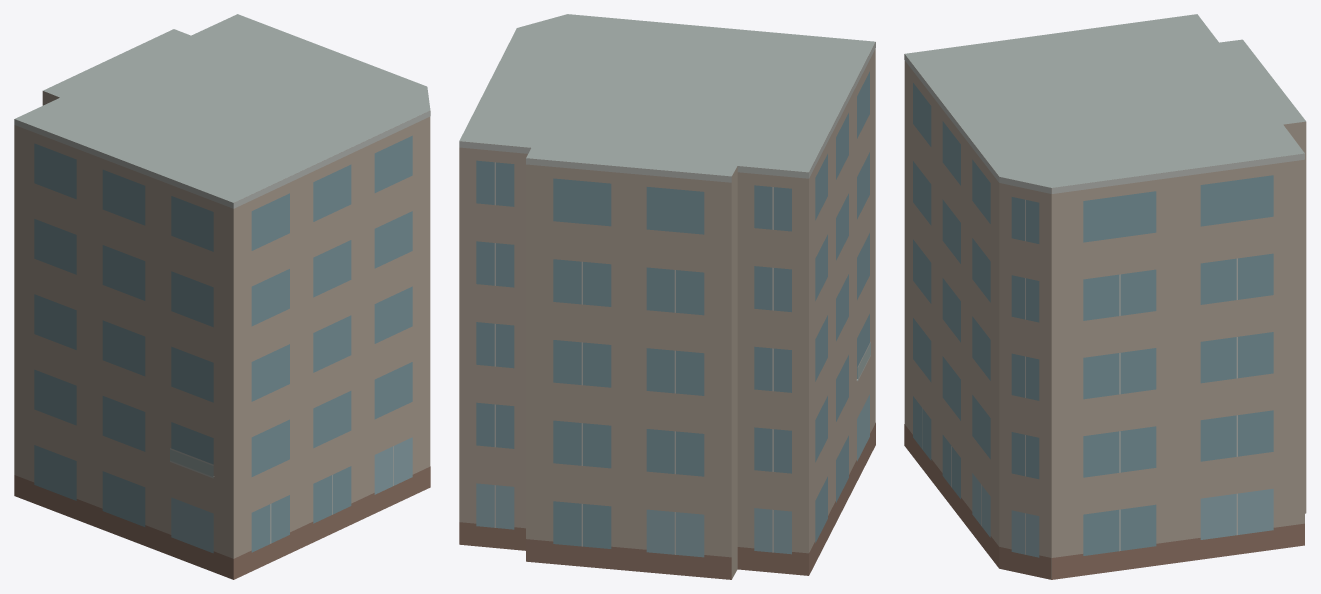
Rendered from survey-upis-32955146.glb.
The picture shows the model from 3 angles, left to right: view 1: azimuth 30°, elevation 25°; view 2: azimuth 150°, elevation 25°; view 3: azimuth 270°, elevation 25°; orthographic projection. The views are drawn at different scales.
Parts seen in each view (by area): view 1: survey-upis-32955146.tmp; view 2: survey-upis-32955146.tmp; view 3: survey-upis-32955146.tmp.
Boxes of the visible parts, bbox=[...] form: survey-upis-32955146.tmp: bbox=[14, 14, 430, 579]; survey-upis-32955146.tmp: bbox=[459, 14, 875, 579]; survey-upis-32955146.tmp: bbox=[904, 14, 1306, 579].
Size of the model in its own units: 14.81 by 15.55 by 14.46.
